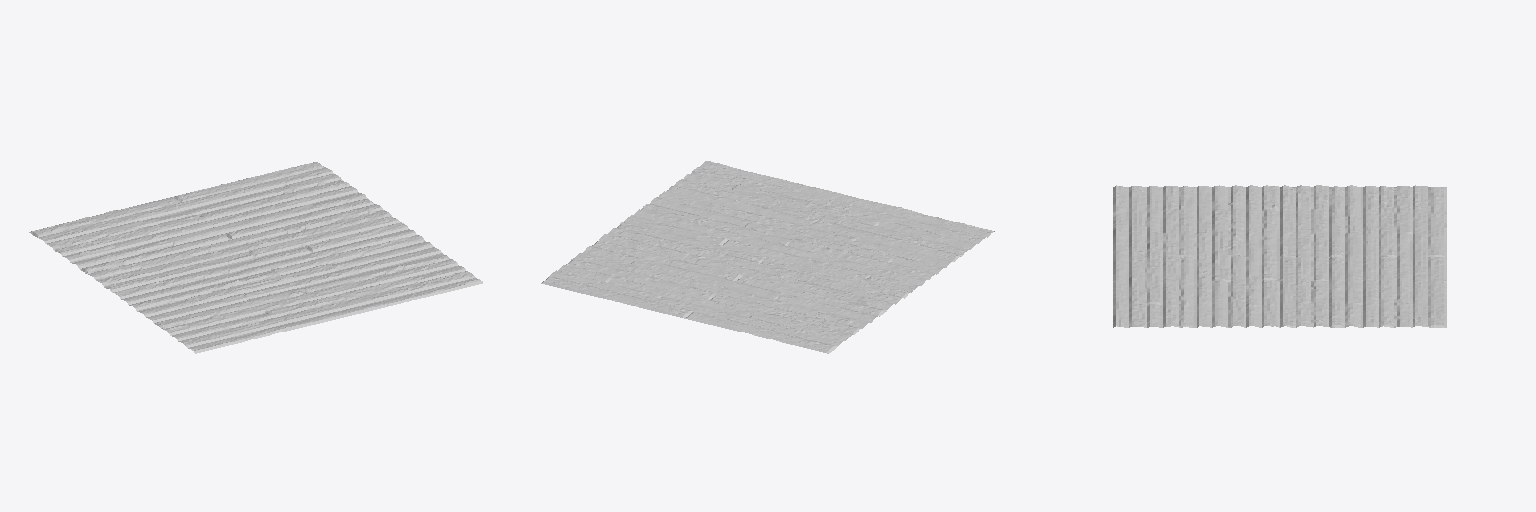
File: planks.obj
3 views of the same model, side by side, from view 1: azimuth 30°, elevation 25°; view 2: azimuth 150°, elevation 25°; view 3: azimuth 270°, elevation 25° (orthographic).
Visible parts, largest first — view 1: Plane; view 2: Plane; view 3: Plane.
Boxes of the visible parts, x1=… form: Plane: x1=29, y1=162, x2=482, y2=353; Plane: x1=541, y1=161, x2=994, y2=353; Plane: x1=1113, y1=185, x2=1446, y2=327.
Size of the model in its own units: 2 by 0.0232 by 2.